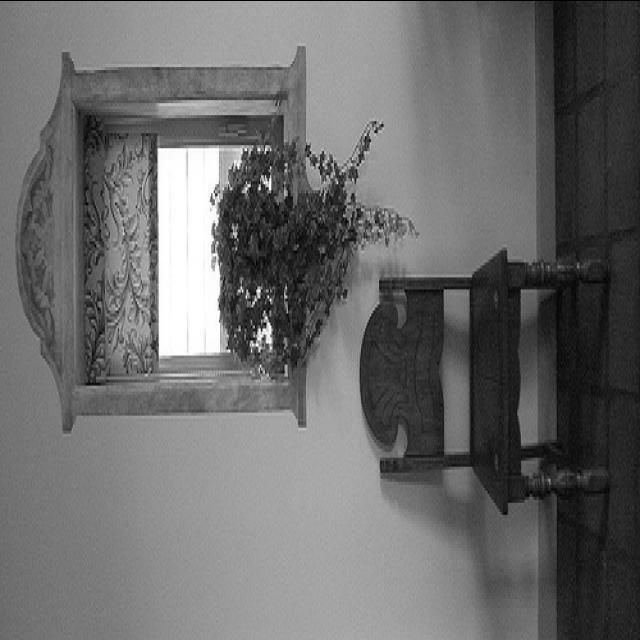chair: (360, 249, 614, 513)
